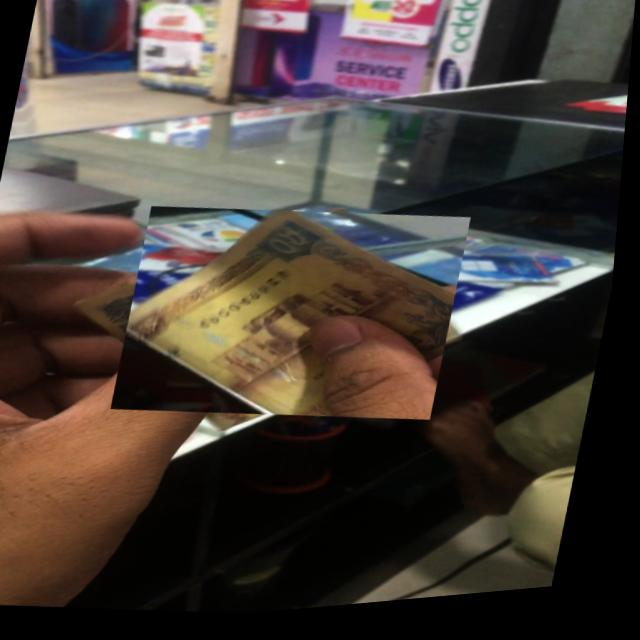Taka: (115, 187, 477, 451)
